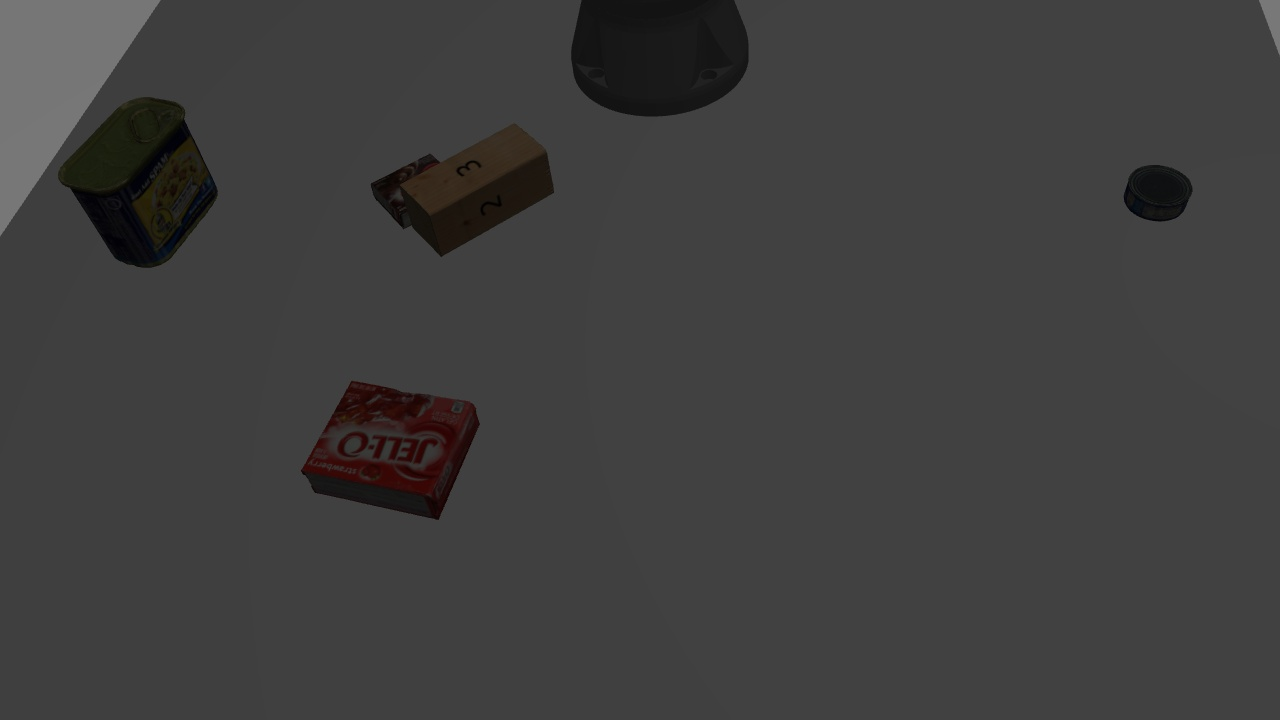gelatin_box: (301, 373, 479, 520)
potted_meat_can: (56, 92, 224, 268)
pudding_box: (369, 153, 439, 233)
tuna_fish_can: (1121, 158, 1190, 222), (1115, 153, 1166, 232)
wood_block: (401, 117, 566, 254)
